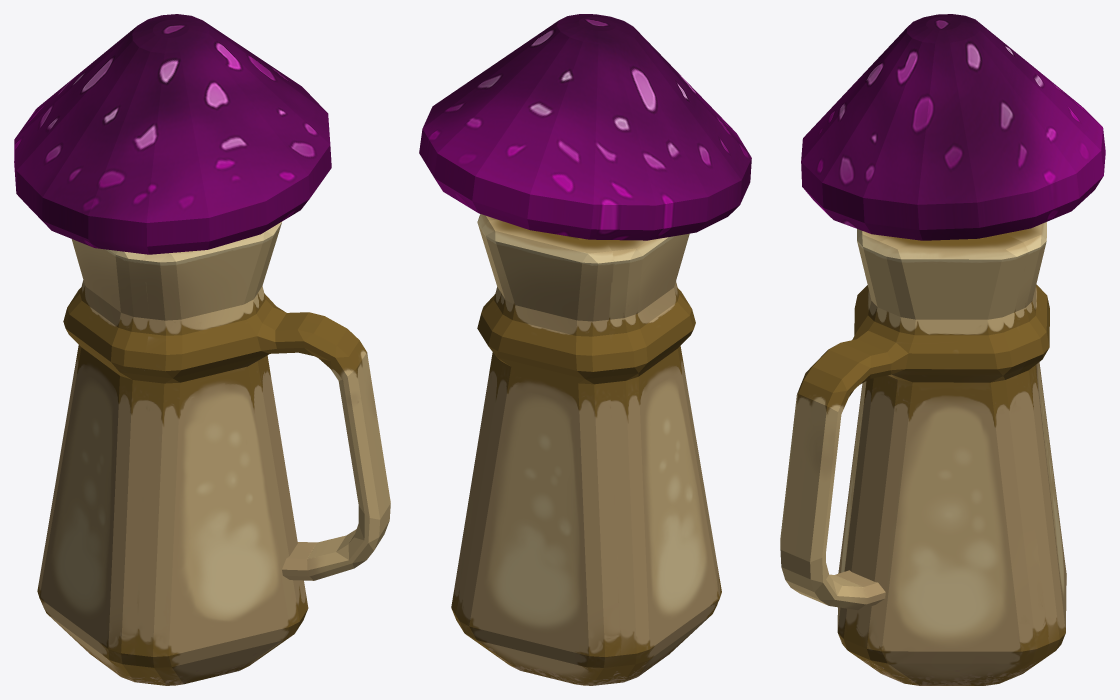
The model's file is potion_purple.fbx.
3 views of the same model, side by side, from view 1: azimuth 30°, elevation 25°; view 2: azimuth 150°, elevation 25°; view 3: azimuth 270°, elevation 25° (orthographic).
Parts seen in each view (by area): view 1: purple potion; view 2: purple potion; view 3: purple potion.
Part boxes in pixels (x1,y1,x2,y2): purple potion: (14,14,390,685); purple potion: (419,14,751,685); purple potion: (780,14,1105,685).
Bounding box in the file's own units: 11.96 × 12.33 × 25.7.
